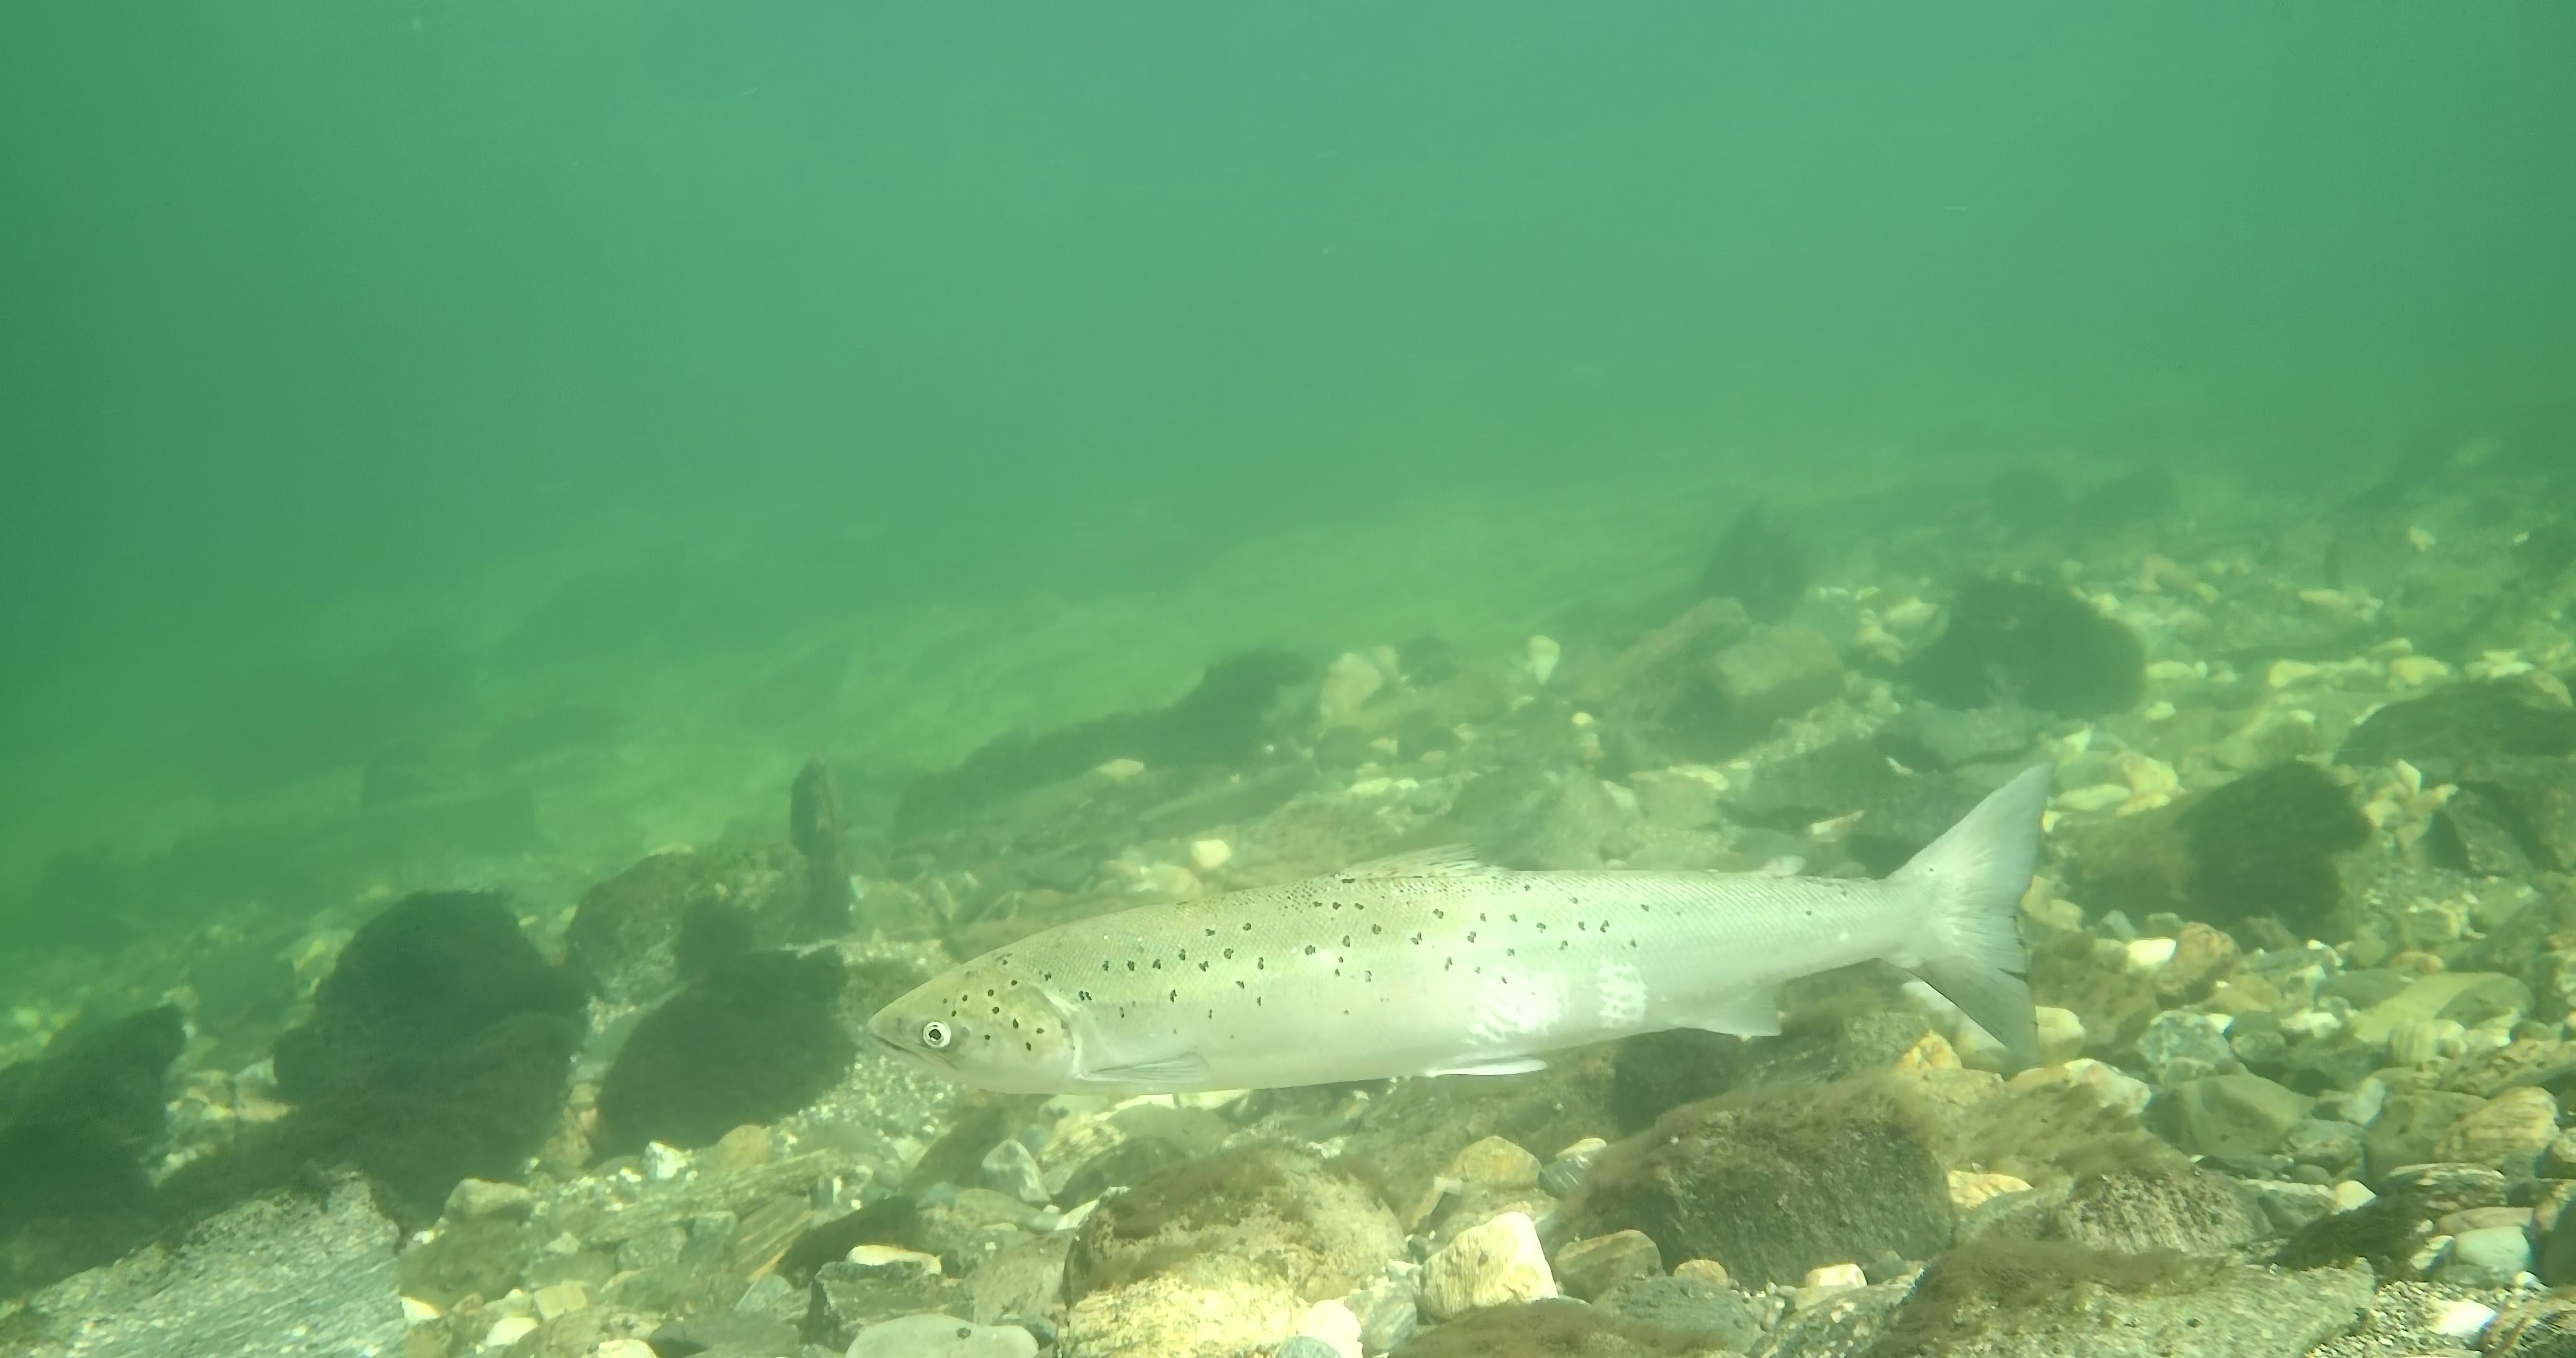salmon: (862, 758, 2053, 1099)
